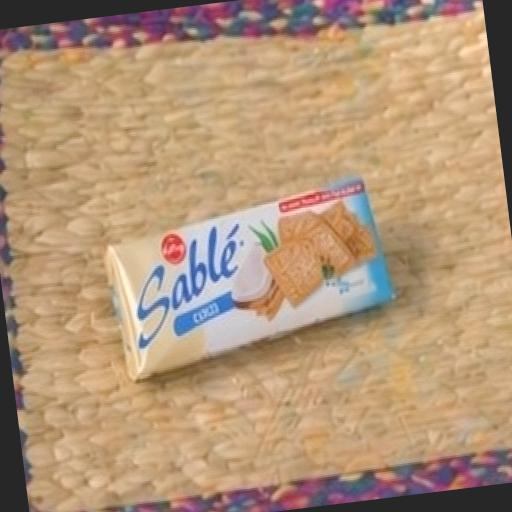sabl: (66, 132, 454, 430)
